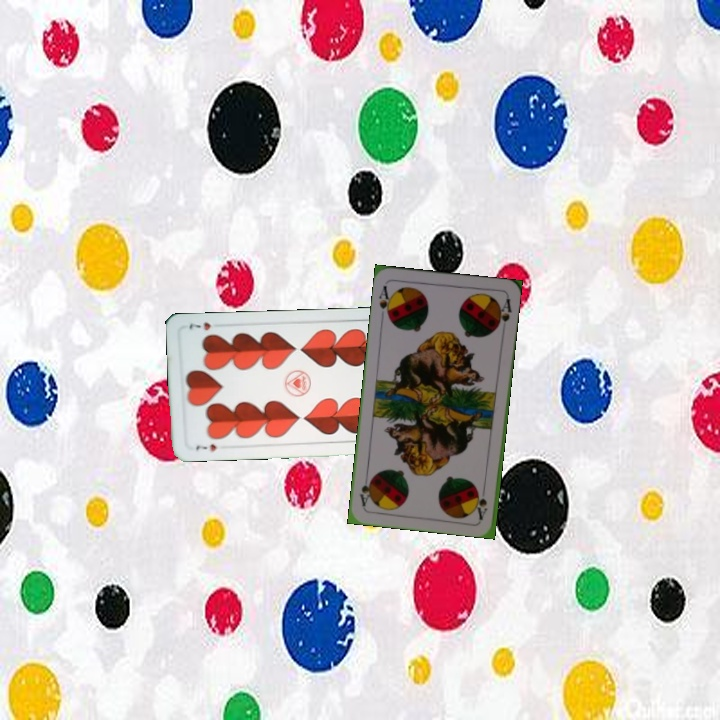H7: (192, 440, 219, 454)
SA: (374, 282, 395, 322), (473, 481, 490, 521)
